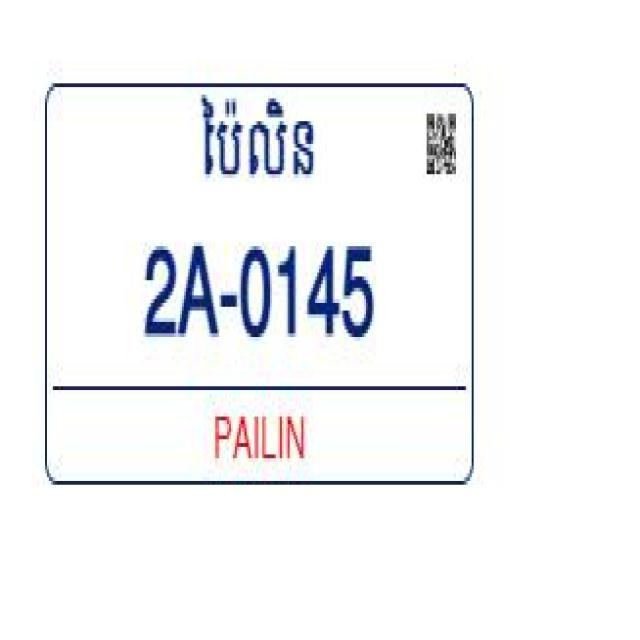Pailin: (190, 87, 323, 195)
